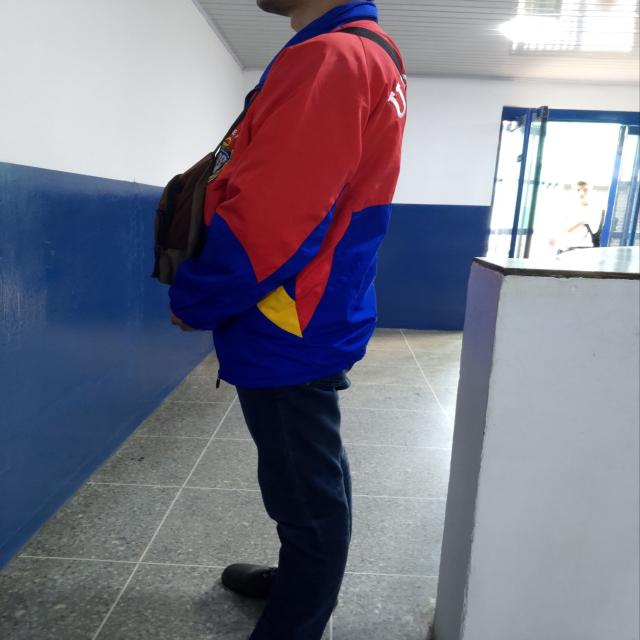chaqueta_unefa: (168, 0, 410, 392)
pantalon_oscuro: (233, 371, 356, 640)
